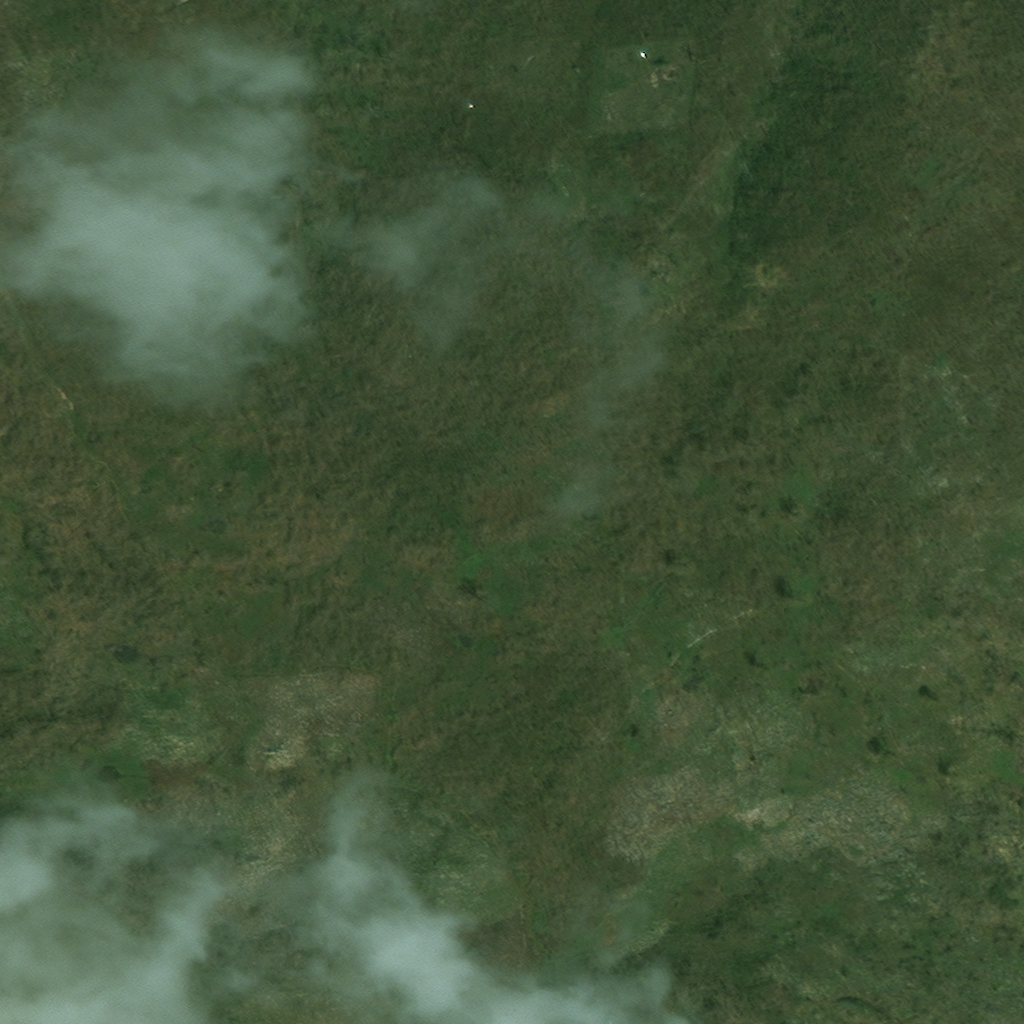unclassified: (495, 569, 507, 583), (488, 569, 496, 583), (618, 925, 627, 937), (91, 148, 101, 157), (20, 238, 28, 246)
